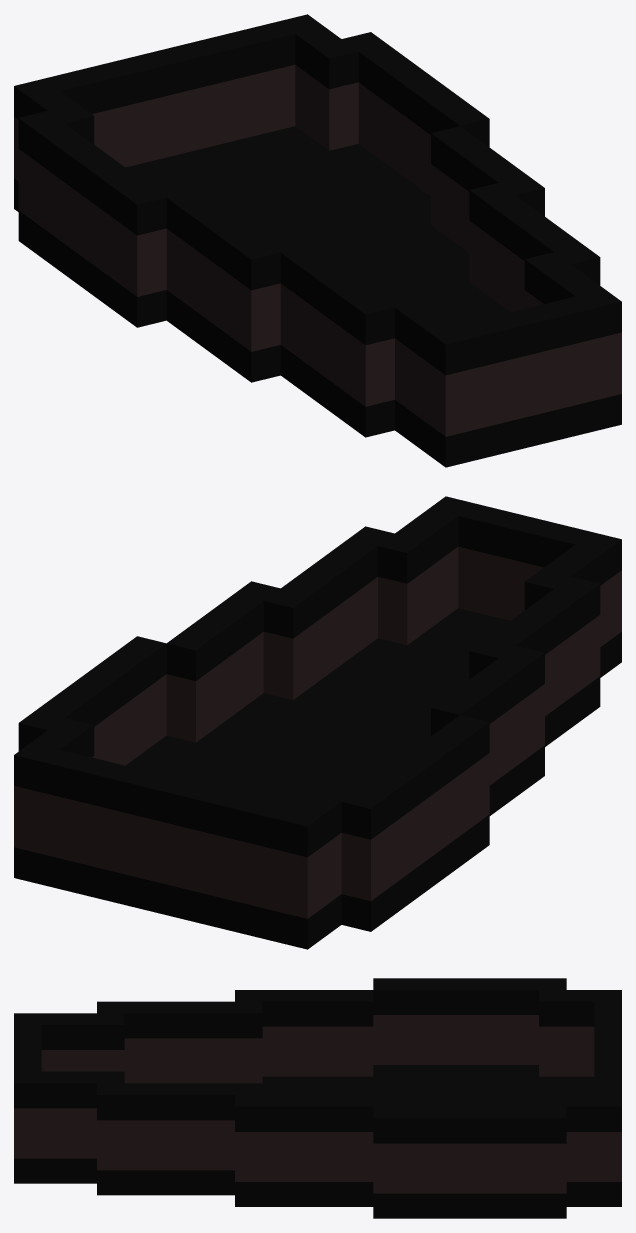
File: church-55-coffin.glb
3 renders of one model, top to bottom at view 1: azimuth 30°, elevation 25°; view 2: azimuth 150°, elevation 25°; view 3: azimuth 270°, elevation 25°, orthographic. The views are drawn at different scales.
Parts seen in each view (by area): view 1: coffin; view 2: coffin; view 3: coffin.
Boxes of the visible parts, x1=… form: coffin: x1=14, y1=14, x2=621, y2=467; coffin: x1=14, y1=496, x2=621, y2=949; coffin: x1=14, y1=978, x2=621, y2=1218.
Bounding box in the file's own units: 1.2 × 0.4 × 2.2.
1 material, 1 textured.
